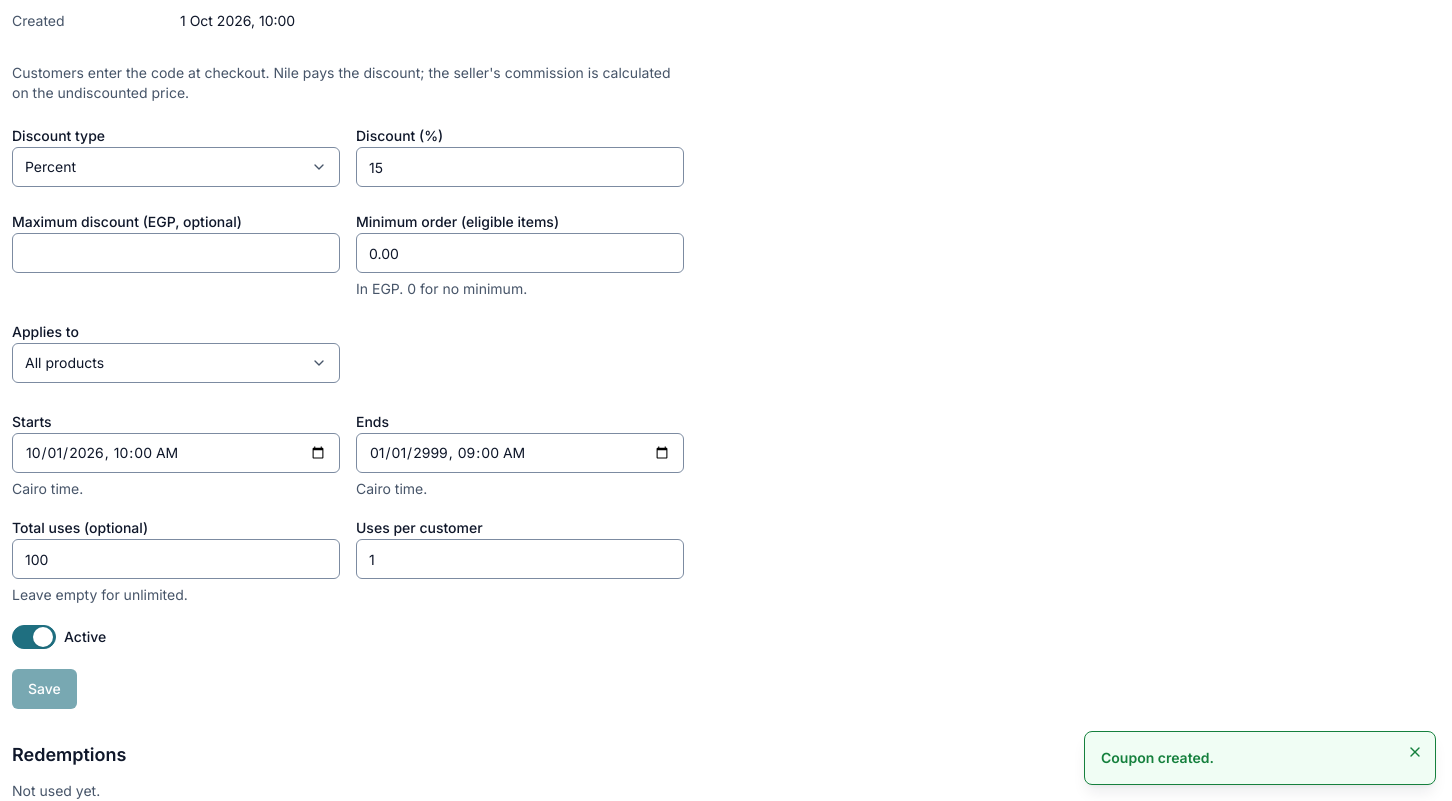
coupon (spec 03 AD-37, T-M9) › a platform coupon: the edit form sends only what changed
(page scrolled)
Expected: the button "Save" is disabled, x1=12 y1=669 x2=77 y2=709
Replace the text in the number field labelled "Uses per customer" with "3" at coordinates (520, 559), box x1=356 y1=539 x2=684 y2=579
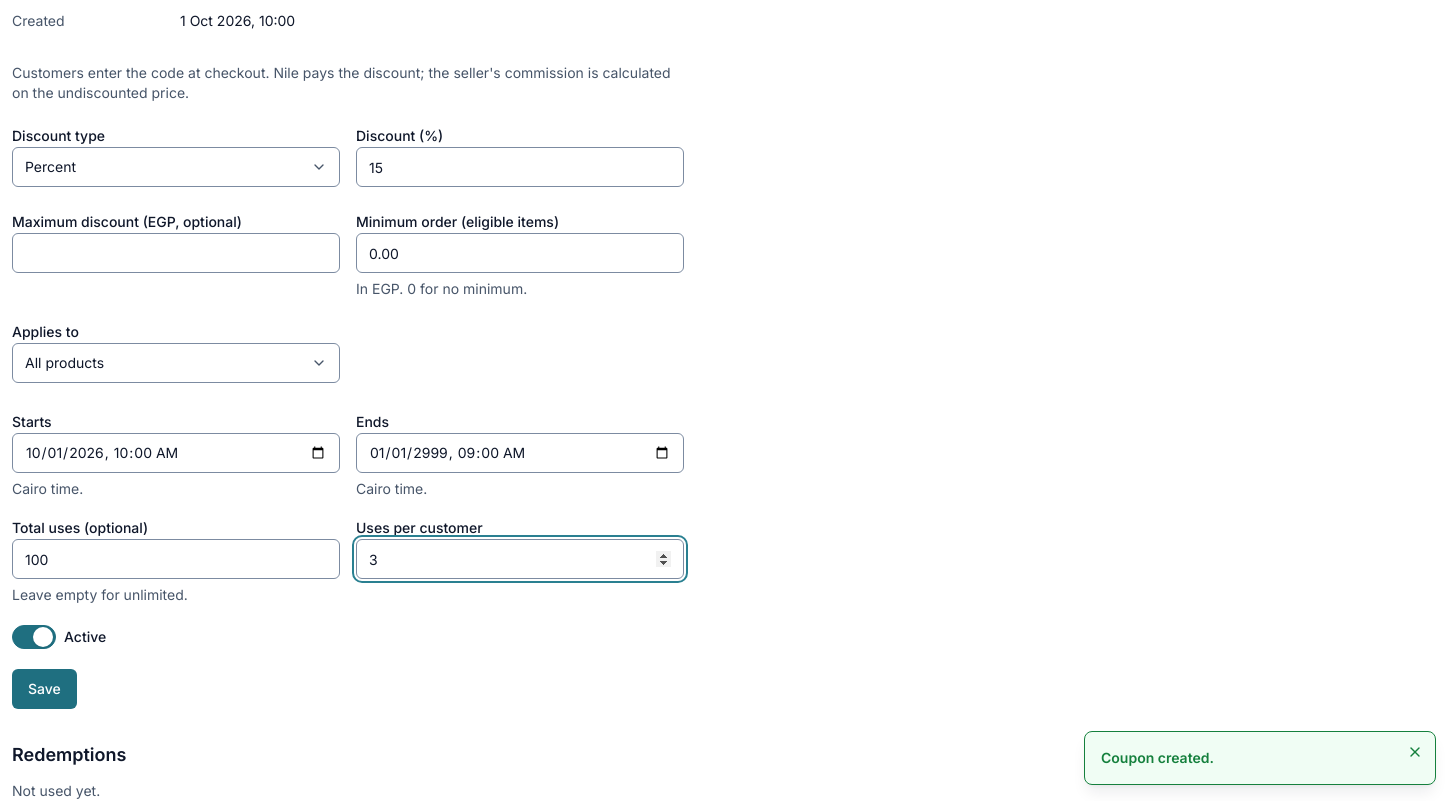
Expected: the button "Save" is enabled
Click the button "Save" at coordinates (44, 689), box x1=12 y1=669 x2=77 y2=709
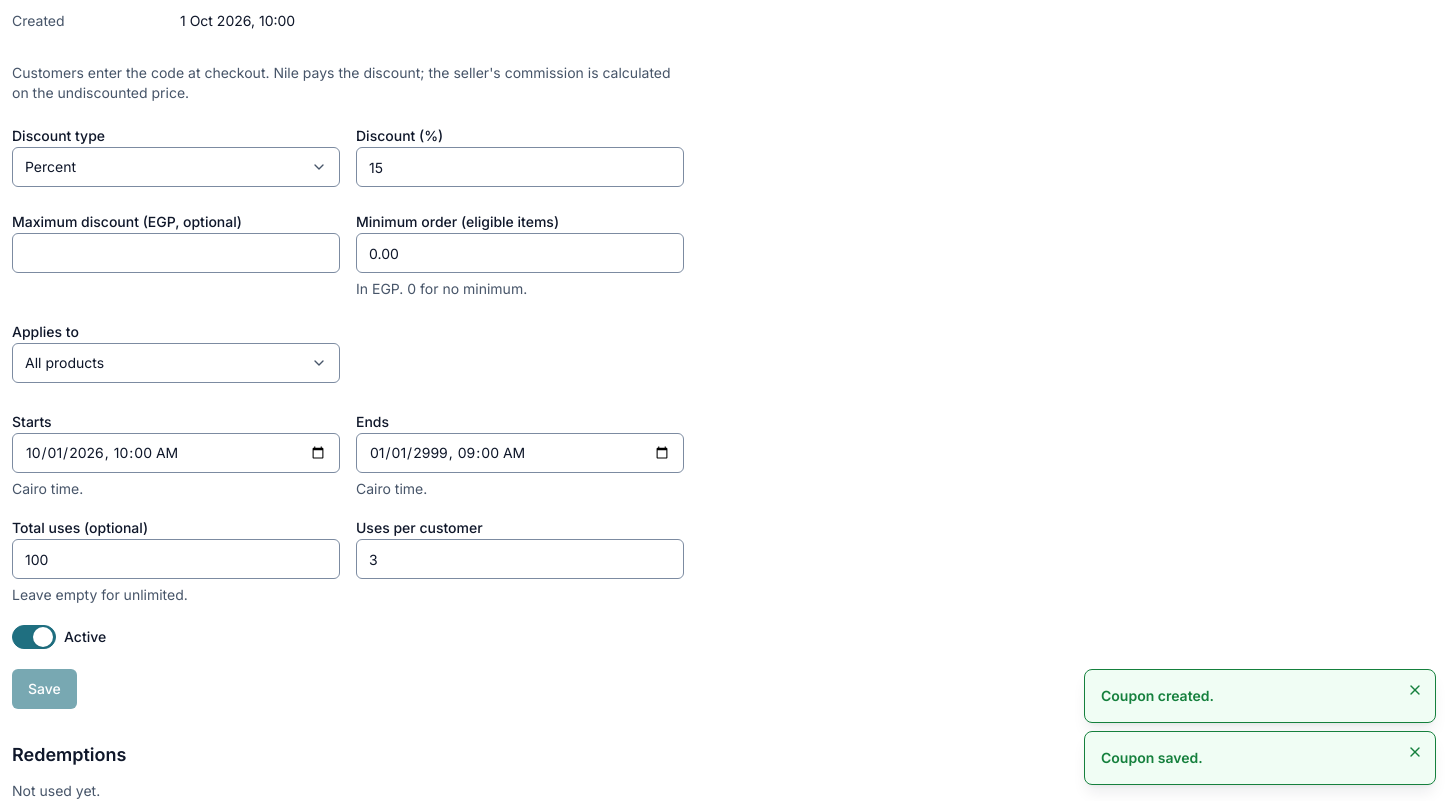
Expected: the text "Not used yet." is shown, x1=12 y1=782 x2=100 y2=799
Expected: the text "Coupon saved." is shown, x1=1101 y1=749 x2=1203 y2=766
